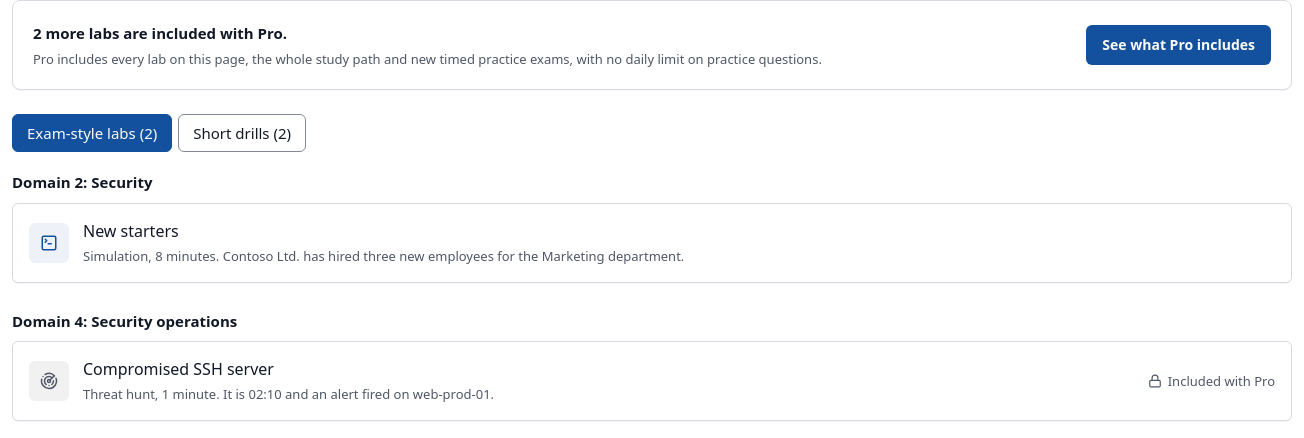
Test: the workspace's labs › opens the first lab of each kind for a free account, and says in words which labs Pro includes
Expected: the text "2 more labs are included with Pro." is shown, [33,23,287,43]
Expected: the text "Pro includes every lab on this page, the whole study path and new timed practice exams, with no daily limit on practice " is shown, [33,50,822,68]
Step 1. Click the tab "Short drills (2)" → (242,133), box [178,114,306,152]
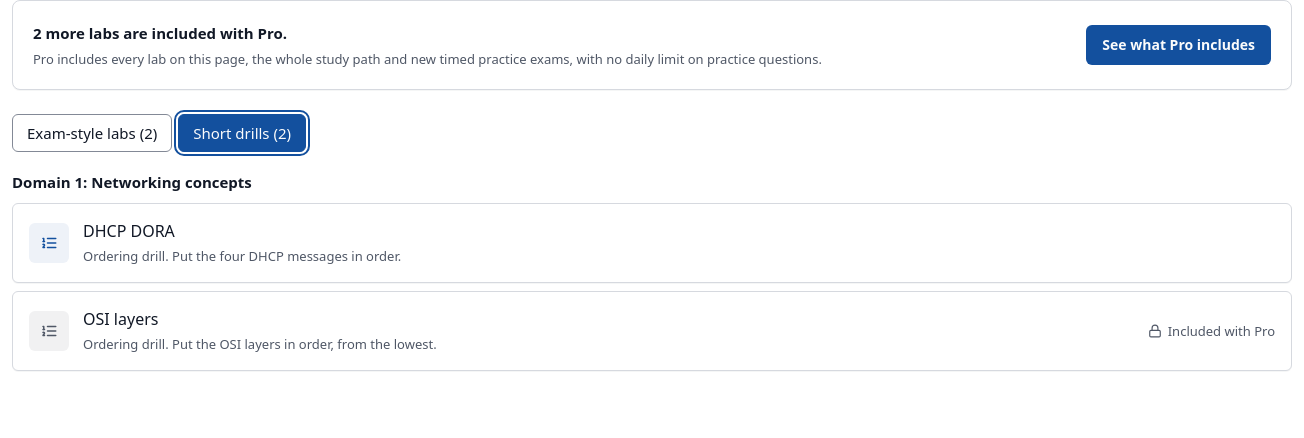
Expected: the button "DHCP DORA" is shown, [12,203,1292,283]
Expected: the link that starts with "OSI layers" is shown, [12,291,1292,371]
